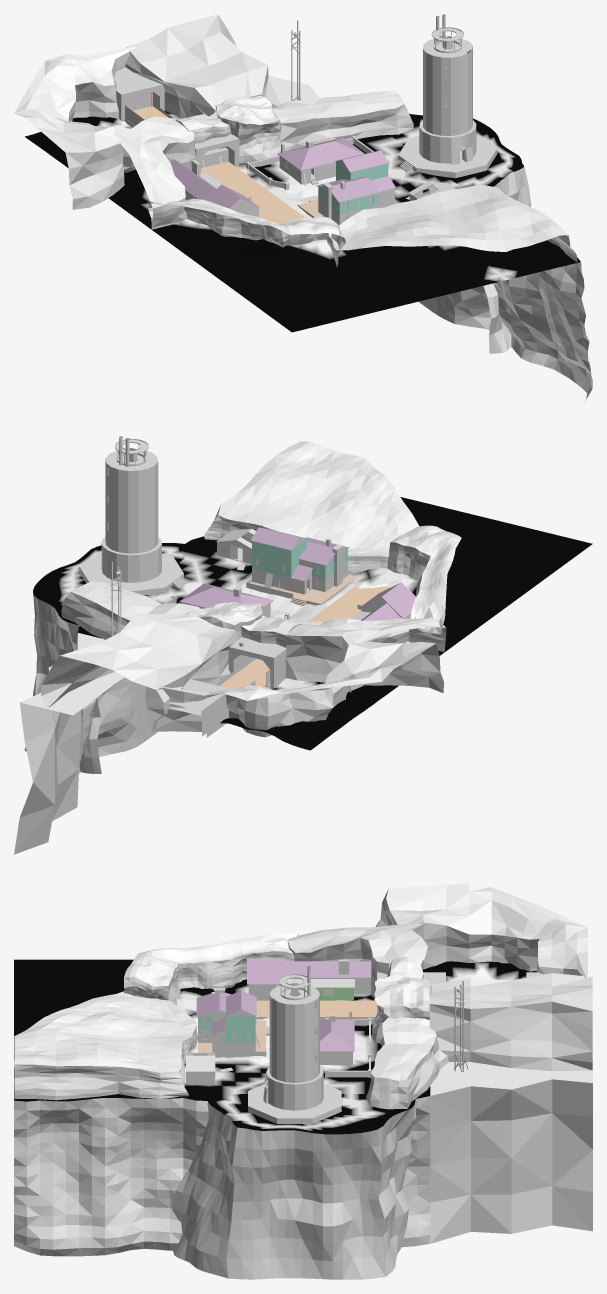
File: lighthouse.fbx
The picture shows the model from 3 angles, top to bottom: view 1: azimuth 30°, elevation 25°; view 2: azimuth 150°, elevation 25°; view 3: azimuth 270°, elevation 25°; orthographic projection. The views are drawn at different scales.
Parts seen in each view (by area): view 1: world_geometry, zs_lighthouse_v1_disp_3785, zs_lighthouse_v1_disp_3787, zs_lighthouse_v1_disp_3797, zs_lighthouse_v1_disp_3786, zs_lighthouse_v1_disp_3744, zs_lighthouse_v1_disp_3788, zs_lighthouse_v1_disp_3747, zs_lighthouse_v1_disp_3789, zs_lighthouse_v1_disp_3804, zs_lighthouse_v1_disp_3756, zs_lighthouse_v1_disp_3802 (+25 smaller); view 2: world_geometry, zs_lighthouse_v1_disp_3785, zs_lighthouse_v1_disp_3797, zs_lighthouse_v1_disp_3811, zs_lighthouse_v1_disp_3744, zs_lighthouse_v1_disp_3747, zs_lighthouse_v1_disp_3790, zs_lighthouse_v1_disp_3789, zs_lighthouse_v1_disp_3749, zs_lighthouse_v1_disp_3802, zs_lighthouse_v1_disp_3801, zs_lighthouse_v1_disp_3754 (+28 smaller); view 3: zs_lighthouse_v1_disp_3787, zs_lighthouse_v1_disp_3811, world_geometry, zs_lighthouse_v1_disp_3795, zs_lighthouse_v1_disp_3792, zs_lighthouse_v1_disp_3799, zs_lighthouse_v1_disp_3785, zs_lighthouse_v1_disp_3745, zs_lighthouse_v1_disp_3744, zs_lighthouse_v1_disp_3797, zs_lighthouse_v1_disp_3802, zs_lighthouse_v1_disp_3793 (+35 smaller).
Part boxes in pixels (left/top/right/bottom): world_geometry: left=114, top=14, right=497, bottom=224; zs_lighthouse_v1_disp_3785: left=188, top=239, right=429, bottom=332; zs_lighthouse_v1_disp_3787: left=478, top=262, right=592, bottom=399; zs_lighthouse_v1_disp_3797: left=126, top=14, right=267, bottom=109; zs_lighthouse_v1_disp_3786: left=361, top=240, right=580, bottom=298; zs_lighthouse_v1_disp_3744: left=422, top=184, right=567, bottom=251; zs_lighthouse_v1_disp_3788: left=108, top=163, right=312, bottom=255; zs_lighthouse_v1_disp_3747: left=363, top=197, right=505, bottom=251; zs_lighthouse_v1_disp_3789: left=255, top=135, right=471, bottom=203; zs_lighthouse_v1_disp_3804: left=65, top=143, right=124, bottom=209; zs_lighthouse_v1_disp_3756: left=113, top=131, right=185, bottom=208; zs_lighthouse_v1_disp_3802: left=14, top=109, right=119, bottom=152; world_geometry: left=79, top=436, right=415, bottom=737; zs_lighthouse_v1_disp_3785: left=344, top=508, right=592, bottom=624; zs_lighthouse_v1_disp_3797: left=60, top=613, right=234, bottom=689; zs_lighthouse_v1_disp_3811: left=14, top=702, right=82, bottom=854; zs_lighthouse_v1_disp_3744: left=218, top=441, right=366, bottom=531; zs_lighthouse_v1_disp_3747: left=278, top=459, right=395, bottom=544; zs_lighthouse_v1_disp_3790: left=78, top=677, right=157, bottom=773; zs_lighthouse_v1_disp_3789: left=78, top=550, right=313, bottom=638; zs_lighthouse_v1_disp_3749: left=340, top=489, right=419, bottom=556; zs_lighthouse_v1_disp_3802: left=325, top=641, right=435, bottom=682; zs_lighthouse_v1_disp_3801: left=220, top=681, right=372, bottom=750; zs_lighthouse_v1_disp_3754: left=283, top=635, right=351, bottom=692; zs_lighthouse_v1_disp_3787: left=14, top=1098, right=208, bottom=1256; zs_lighthouse_v1_disp_3811: left=430, top=1079, right=592, bottom=1243; world_geometry: left=186, top=958, right=543, bottom=1123; zs_lighthouse_v1_disp_3795: left=302, top=1129, right=385, bottom=1279; zs_lighthouse_v1_disp_3792: left=226, top=1127, right=302, bottom=1279; zs_lighthouse_v1_disp_3799: left=429, top=1001, right=592, bottom=1071; zs_lighthouse_v1_disp_3785: left=14, top=959, right=214, bottom=1026; zs_lighthouse_v1_disp_3745: left=14, top=1064, right=189, bottom=1100; zs_lighthouse_v1_disp_3744: left=14, top=1032, right=182, bottom=1072; zs_lighthouse_v1_disp_3797: left=429, top=973, right=592, bottom=1011; zs_lighthouse_v1_disp_3802: left=386, top=883, right=491, bottom=934; zs_lighthouse_v1_disp_3793: left=184, top=1115, right=237, bottom=1278.
Size of the model in its own units: 16149 by 10882 by 20276.
